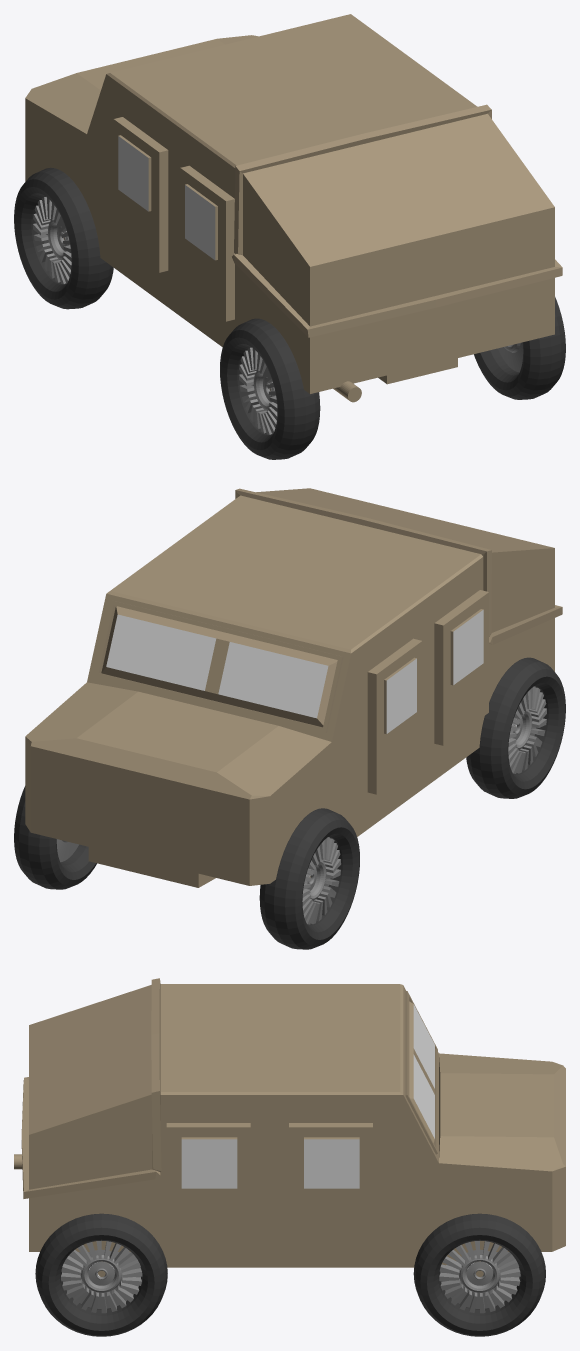
Rendered from Car.fbx.
The picture shows the model from 3 angles, top to bottom: view 1: azimuth 30°, elevation 25°; view 2: azimuth 150°, elevation 25°; view 3: azimuth 270°, elevation 25°; orthographic projection. The views are drawn at different scales.
Parts seen in each view (by area): view 1: Cube; view 2: Cube; view 3: Cube.
Boxes of the visible parts, x1,y1,x2,y2 form: Cube: (14,14,565,459); Cube: (14,488,565,949); Cube: (14,978,565,1336).
Bounding box in the file's own units: 347 × 309 × 630.
